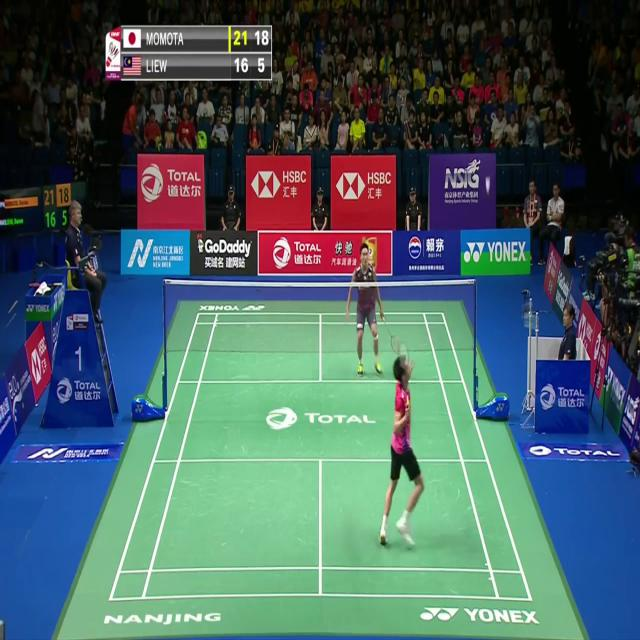Shuttlecock: (484, 176, 491, 188)
